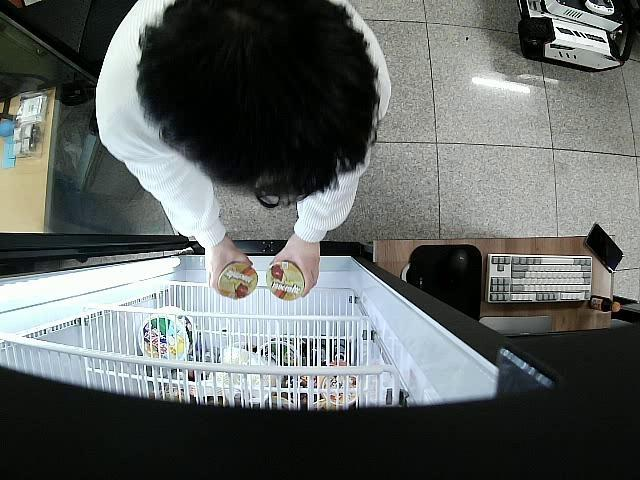04_chapagetti_S: (266, 258, 306, 302), (220, 262, 257, 298)
